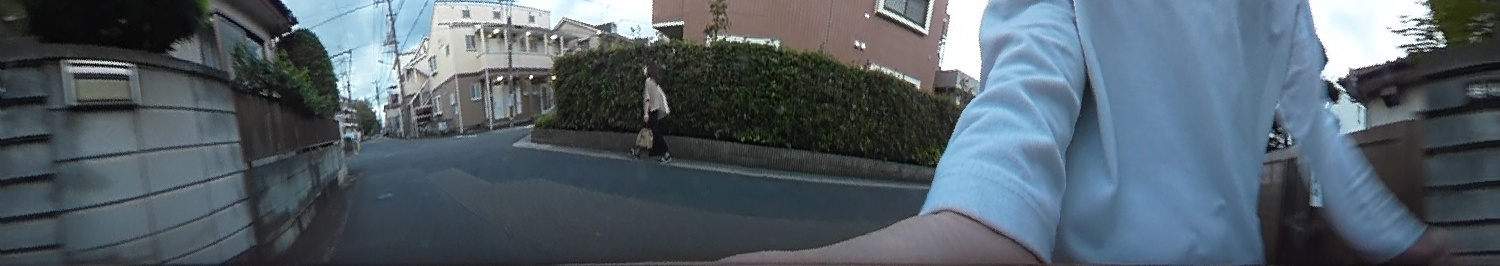person: (629, 59, 678, 168)
